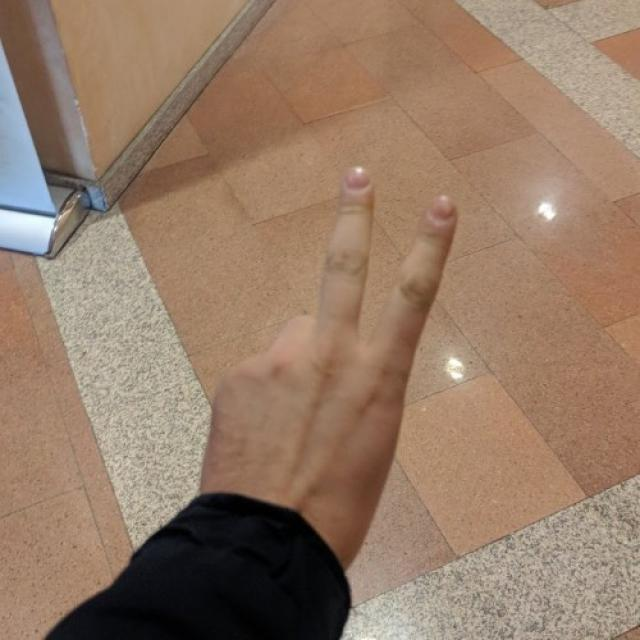scissors: (204, 160, 461, 560)
